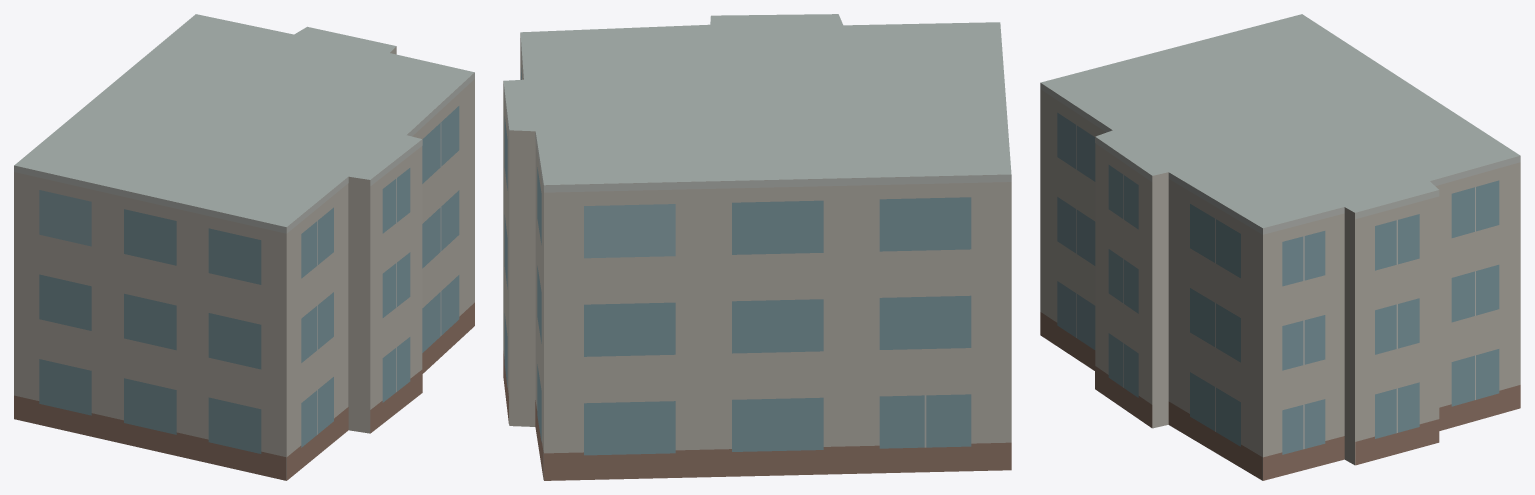
Rendered from survey-upis-32947206.glb.
3 renders of one model, left to right at view 1: azimuth 30°, elevation 25°; view 2: azimuth 150°, elevation 25°; view 3: azimuth 270°, elevation 25°, orthographic. The views are drawn at different scales.
Visible parts, largest first — view 1: survey-upis-32947206.tmp; view 2: survey-upis-32947206.tmp; view 3: survey-upis-32947206.tmp.
Boxes of the visible parts, x1,y1,x2,y2 form: survey-upis-32947206.tmp: (14, 14, 474, 480); survey-upis-32947206.tmp: (503, 14, 1011, 480); survey-upis-32947206.tmp: (1040, 14, 1520, 480).
Size of the model in its own units: 17.29 by 9.5 by 16.38.
